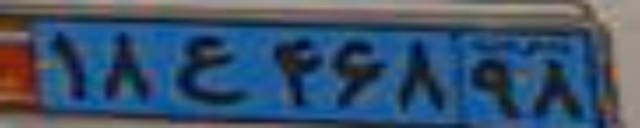1: (50, 33, 88, 99)
4: (269, 37, 321, 108)
6: (328, 39, 388, 109)
8: (391, 38, 446, 113), (99, 32, 155, 102), (526, 59, 589, 120)
9: (468, 57, 526, 118)
ain: (175, 34, 252, 104)
